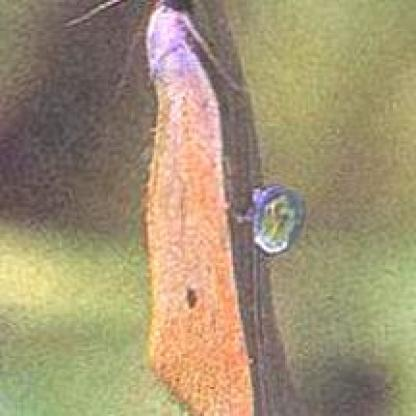stem-borer: (141, 0, 254, 416)
